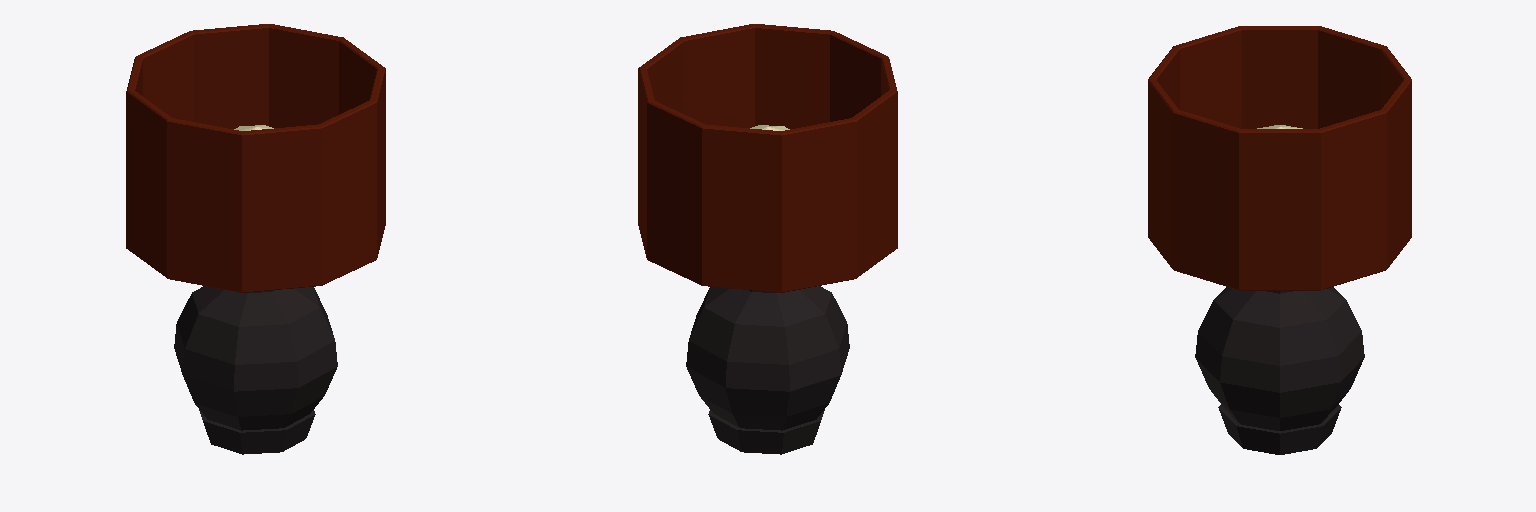
The model's file is TableLamp1.obj.
3 views of the same model, side by side, from view 1: azimuth 30°, elevation 25°; view 2: azimuth 150°, elevation 25°; view 3: azimuth 270°, elevation 25° (orthographic).
Parts seen in each view (by area): view 1: TableLamp1_Cylinder.001; view 2: TableLamp1_Cylinder.001; view 3: TableLamp1_Cylinder.001.
Boxes of the visible parts, x1,y1,x2,y2 form: TableLamp1_Cylinder.001: [126, 24, 385, 454]; TableLamp1_Cylinder.001: [638, 24, 897, 454]; TableLamp1_Cylinder.001: [1148, 26, 1411, 454].
Size of the model in its own units: 0.2968 by 0.4609 by 0.3121.